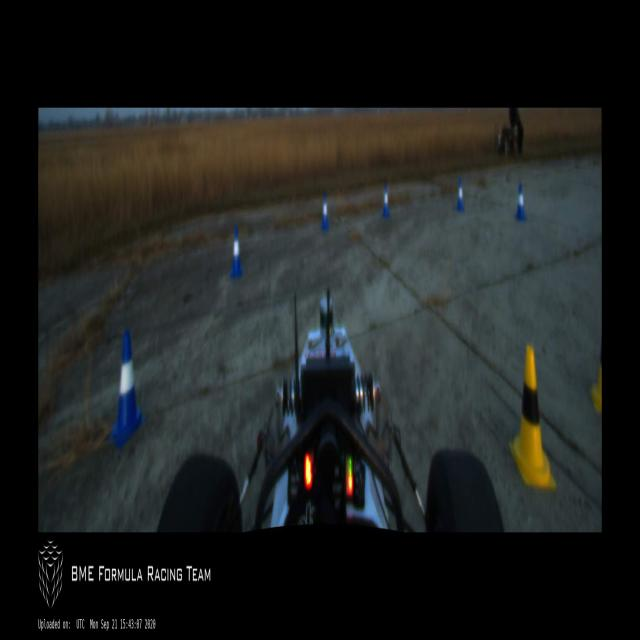blue_cone: (113, 330, 144, 442), (230, 225, 242, 277), (515, 182, 527, 220), (456, 176, 464, 212), (382, 182, 390, 217), (322, 193, 328, 229)
yellow_cone: (510, 346, 556, 486), (591, 343, 602, 412)
